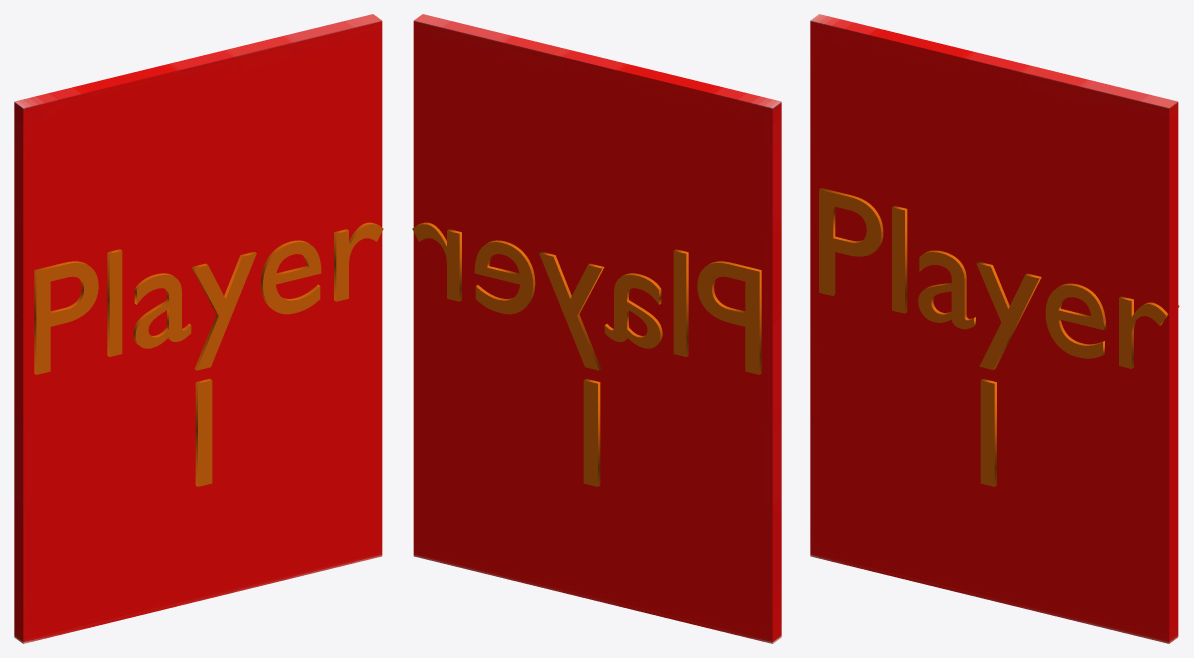
File: PlayerOne.fbx
The picture shows the model from 3 angles, left to right: view 1: azimuth 30°, elevation 25°; view 2: azimuth 150°, elevation 25°; view 3: azimuth 330°, elevation 25°; orthographic projection.
Visible parts, largest first — view 1: PlayerOne; view 2: PlayerOne; view 3: PlayerOne.
Boxes of the visible parts, box(x1,y1,x2,y2) form: PlayerOne: box(14, 14, 383, 643); PlayerOne: box(412, 14, 781, 643); PlayerOne: box(810, 14, 1179, 643).
Size of the model in its own units: 11.47 by 16.37 by 0.7402.
